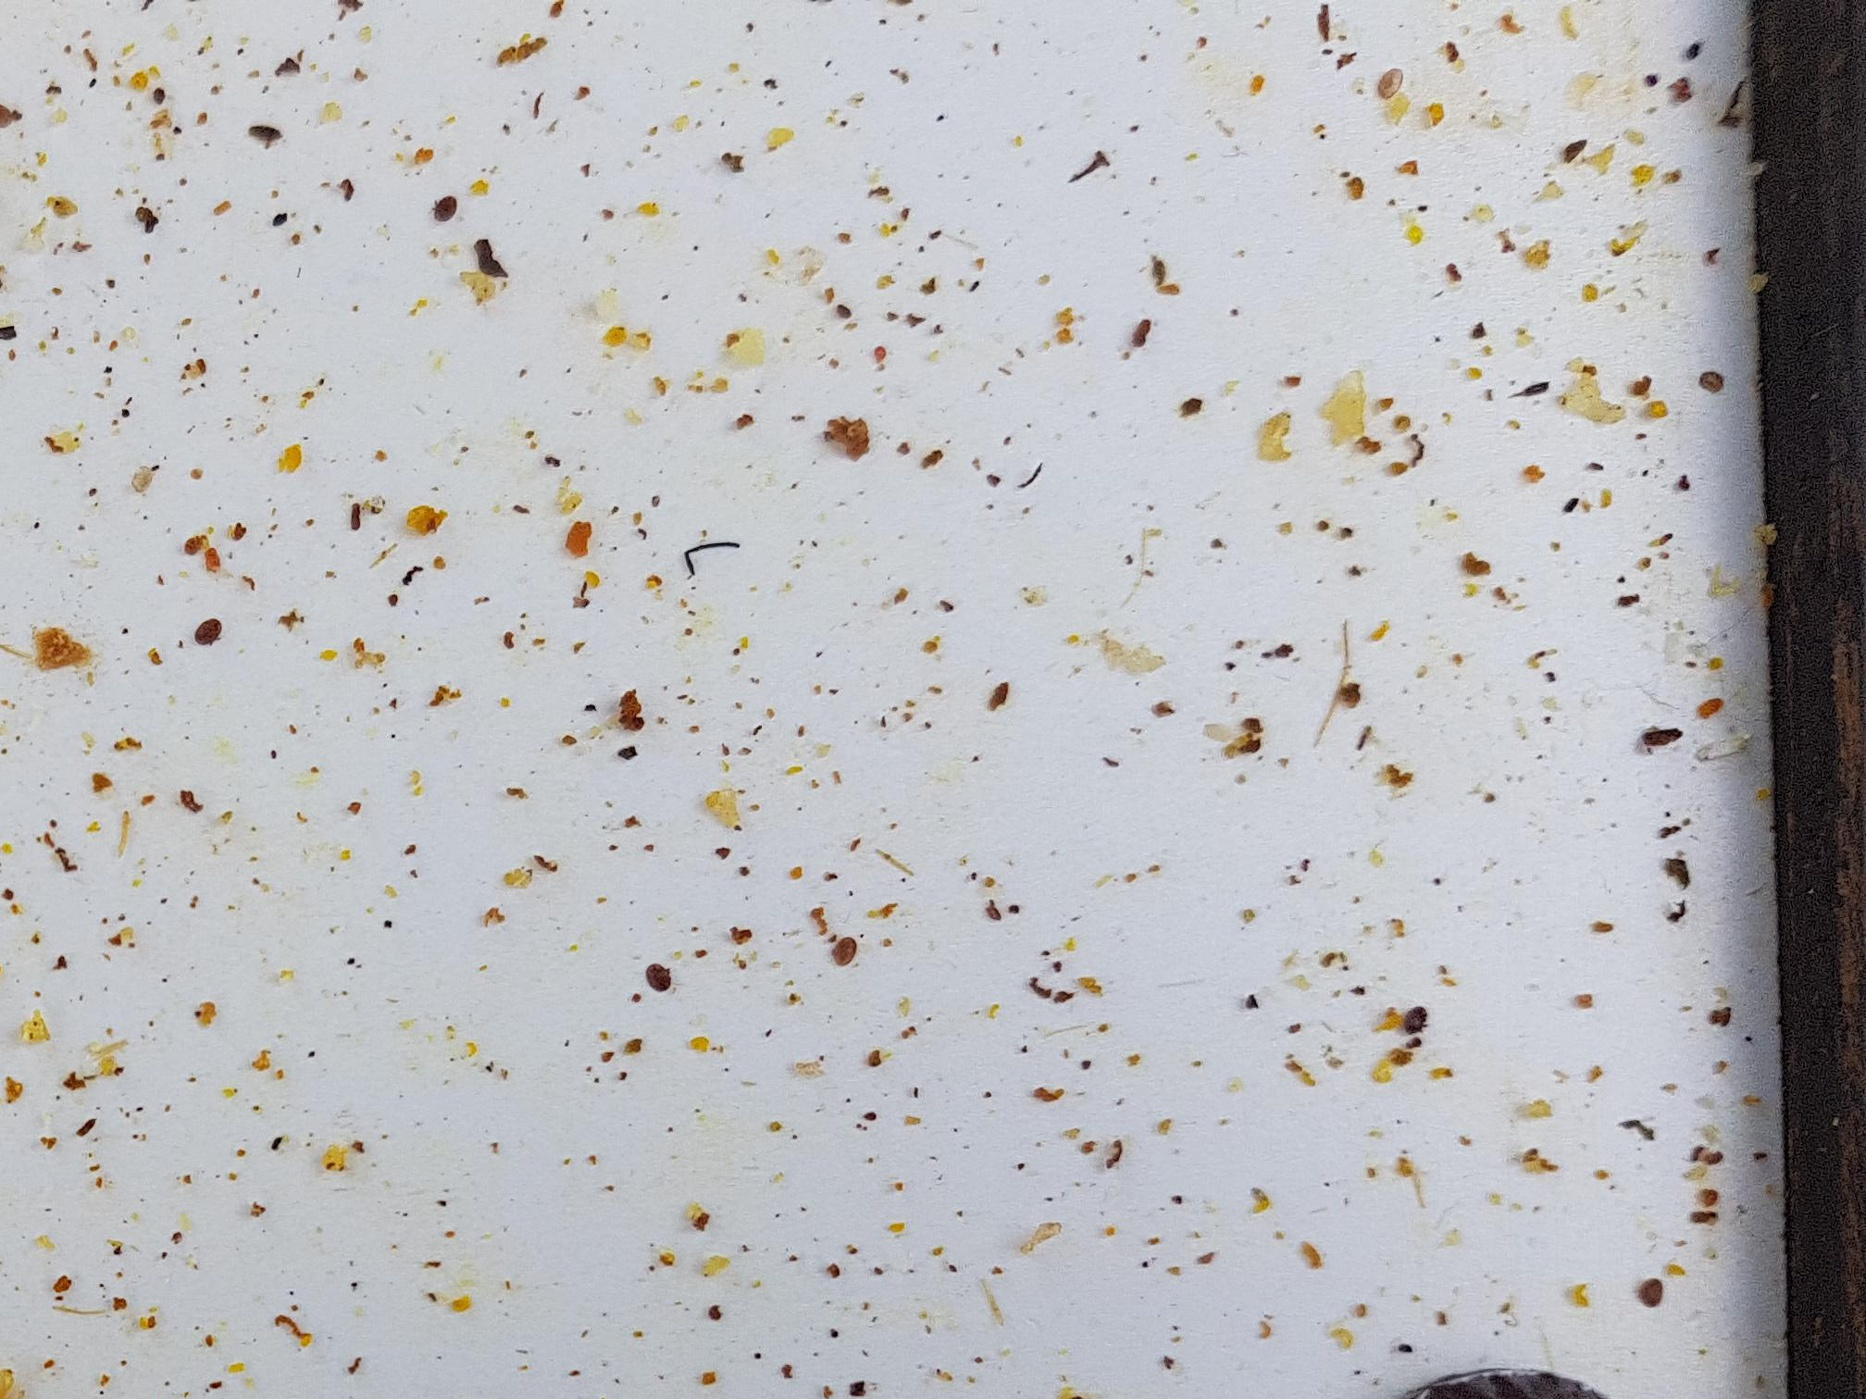Varroa: (190, 611, 228, 655), (1397, 1007, 1430, 1037), (642, 964, 671, 995), (827, 932, 857, 963), (431, 193, 458, 222), (1637, 1278, 1663, 1305)
